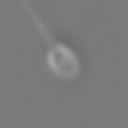normal: (19, 1, 54, 46)
